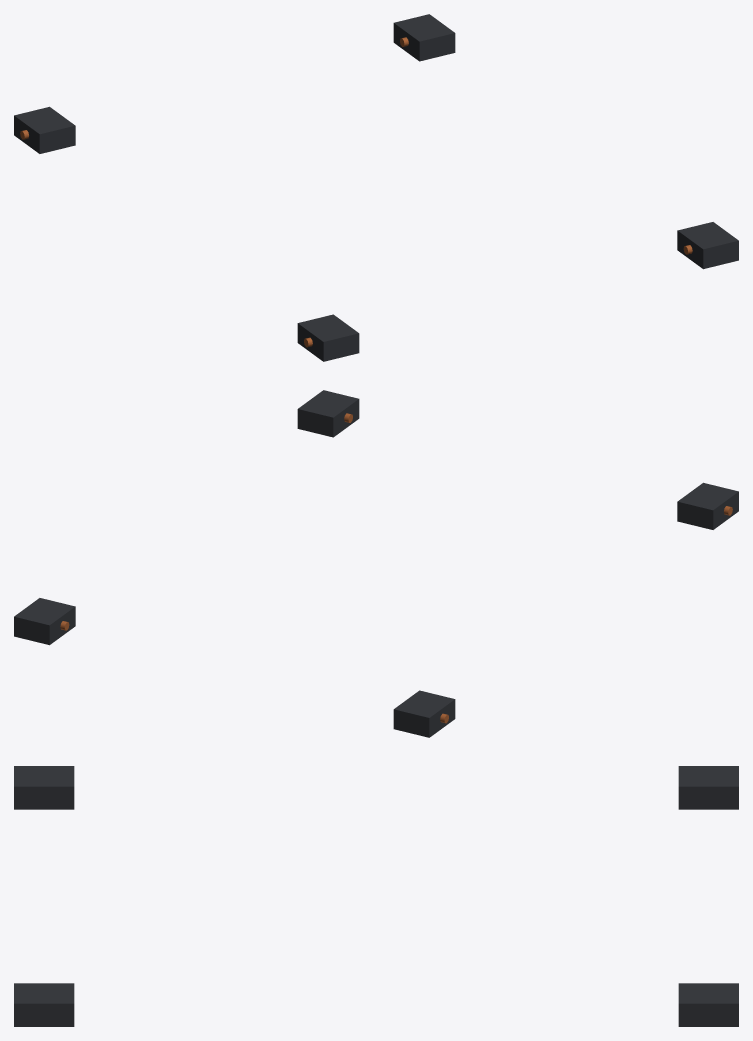
The model's file is rp10_latches.obj.
3 views of the same model, one above another, from view 1: azimuth 30°, elevation 25°; view 2: azimuth 150°, elevation 25°; view 3: azimuth 270°, elevation 25° (orthographic). The views are drawn at different scales.
Parts seen in each view (by area): view 1: rp10_latches; view 2: rp10_latches; view 3: rp10_latches.
Part boxes in pixels (x1,y1,x2,y2): rp10_latches: [14, 14, 738, 361]; rp10_latches: [14, 390, 738, 737]; rp10_latches: [14, 766, 738, 1026].
Bounding box in the file's own units: 1.88 × 0.085 × 2.4.
